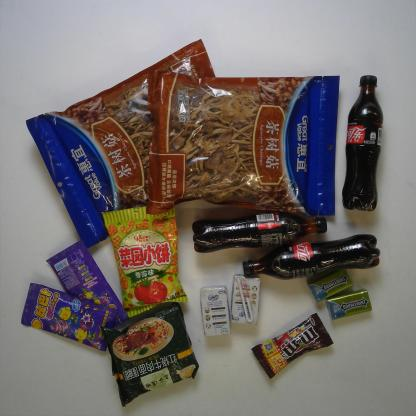Candy: (46, 240, 130, 331), (21, 282, 118, 352)
Chocolate: (251, 312, 334, 381)
Dried Food: (24, 38, 226, 252), (144, 66, 340, 218)
Drink: (241, 234, 380, 281), (191, 210, 328, 254), (341, 74, 384, 213)
Gum: (307, 268, 354, 304), (324, 288, 373, 320)
Instant Noodles: (99, 302, 200, 408)
Milk: (229, 272, 261, 327), (200, 284, 232, 338)
Puffed Food: (100, 201, 189, 319)
